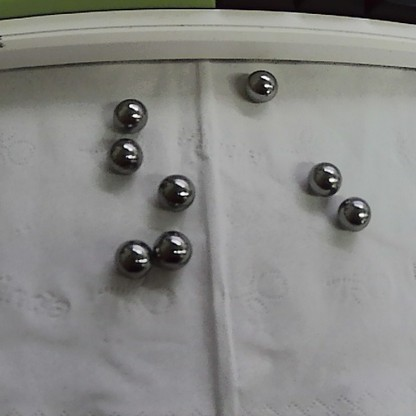ironball: (109, 231, 159, 278), (97, 125, 145, 173), (301, 149, 344, 201), (106, 93, 155, 132), (240, 57, 281, 103), (152, 173, 193, 214), (335, 189, 370, 234), (151, 229, 190, 267)
